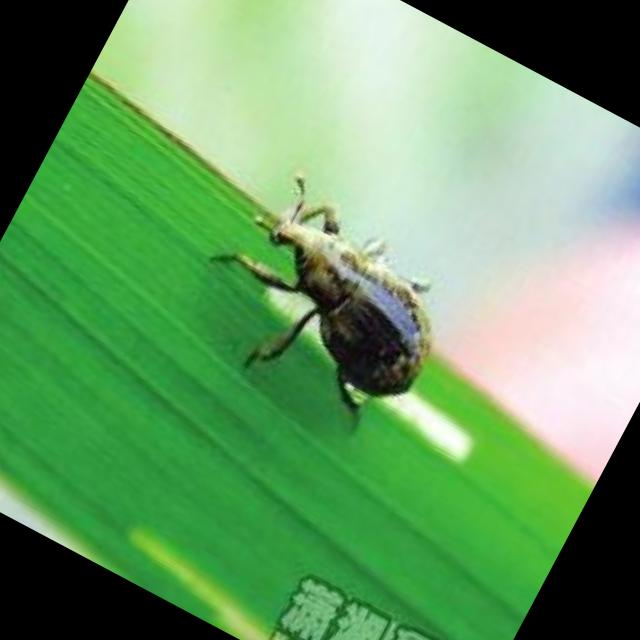rice-bug: (188, 164, 477, 424)
